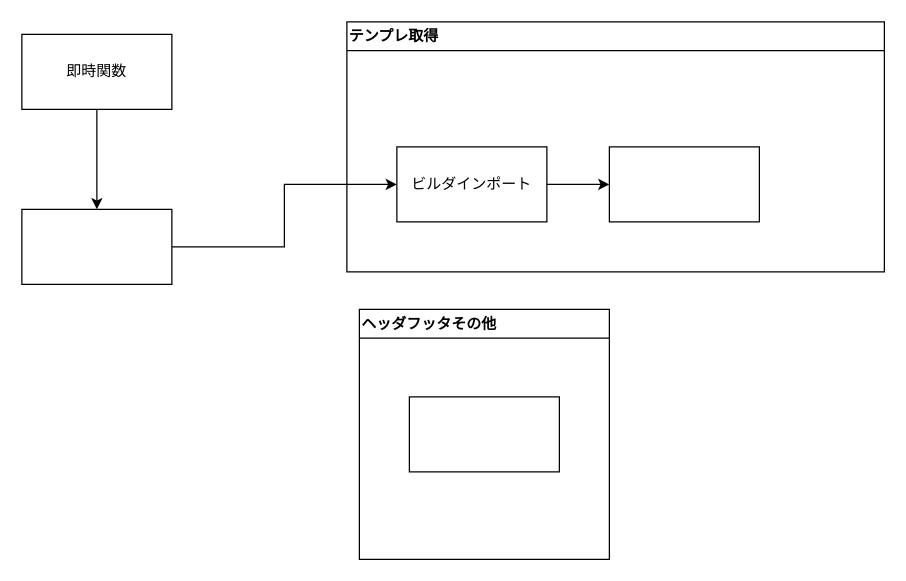
The diagram is 906 pixels wide and 581 high, and some of its shapes have lost their labels. The shapes that lost their labels are listed below. From the top down, each one's centre as x and y in pixels, then its label:
(x=683, y=184): thenで ビルダにパス渡す
(x=96, y=246): wtsetting.jsonの 読込
